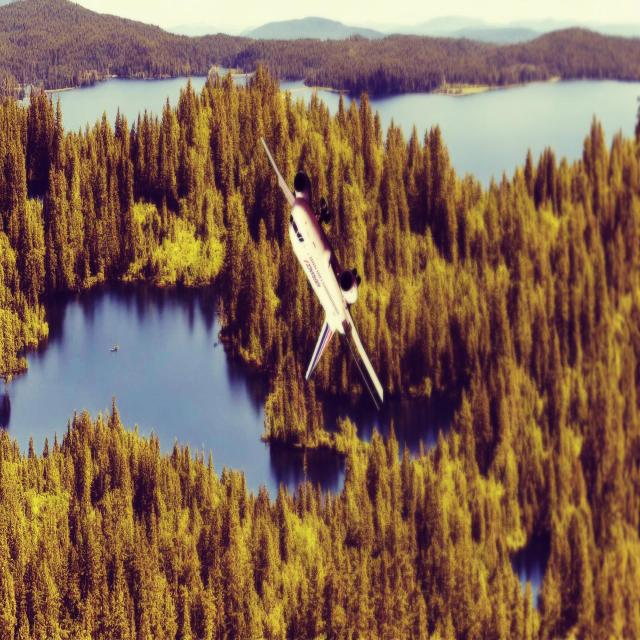airplane: (260, 136, 384, 410)
